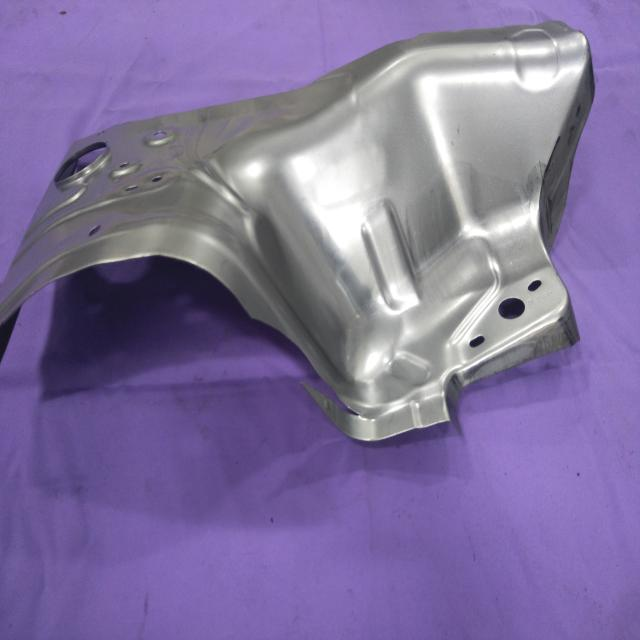Defect: (252, 315, 377, 429)
